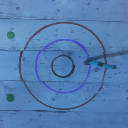Axe Tip: (86, 57, 97, 59)
